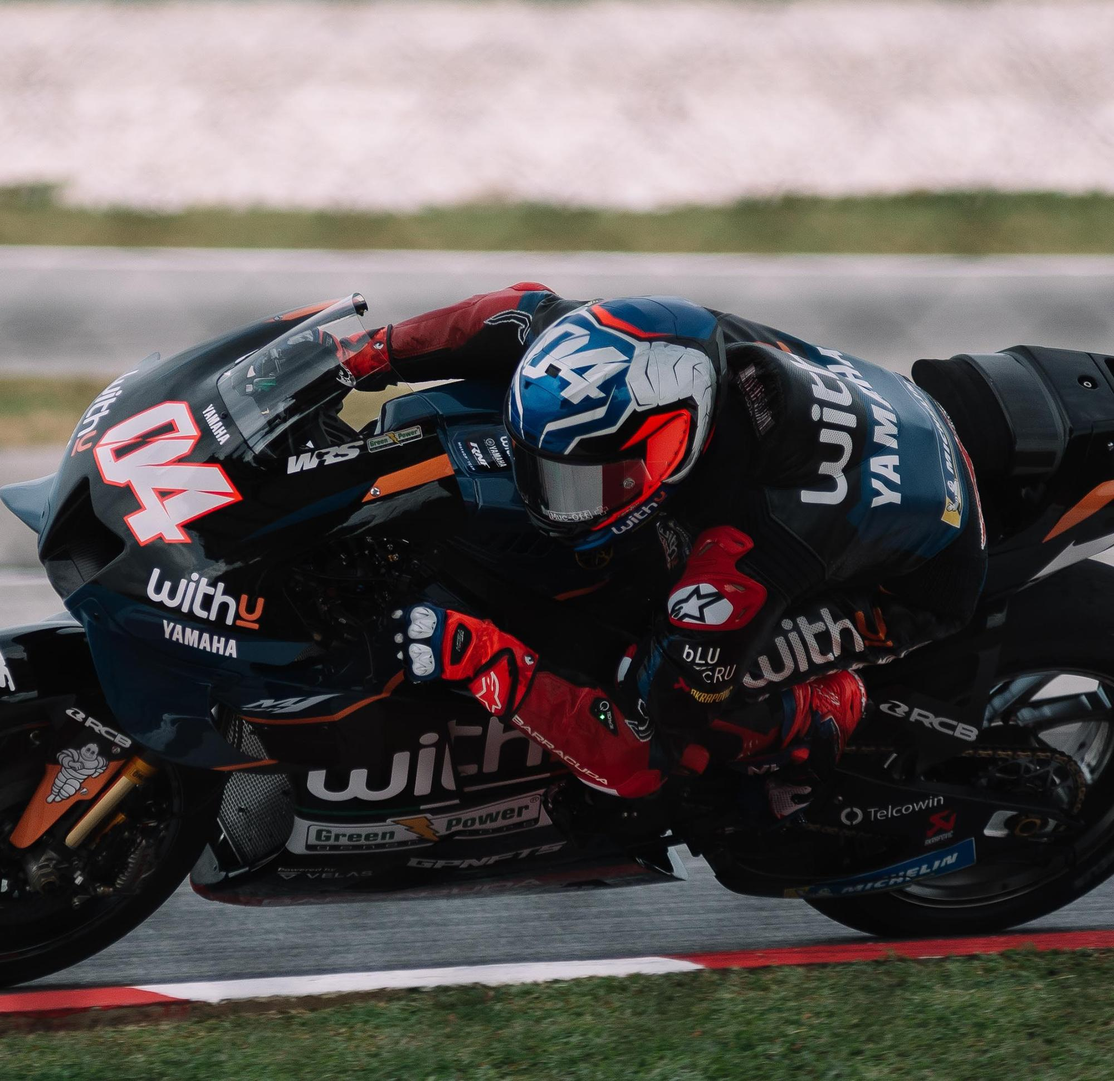helmet: (502, 292, 730, 556)
